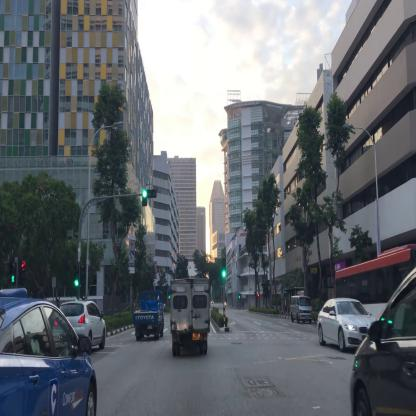green_traffic_light: (142, 189, 156, 198), (75, 262, 78, 286), (222, 260, 226, 278)
